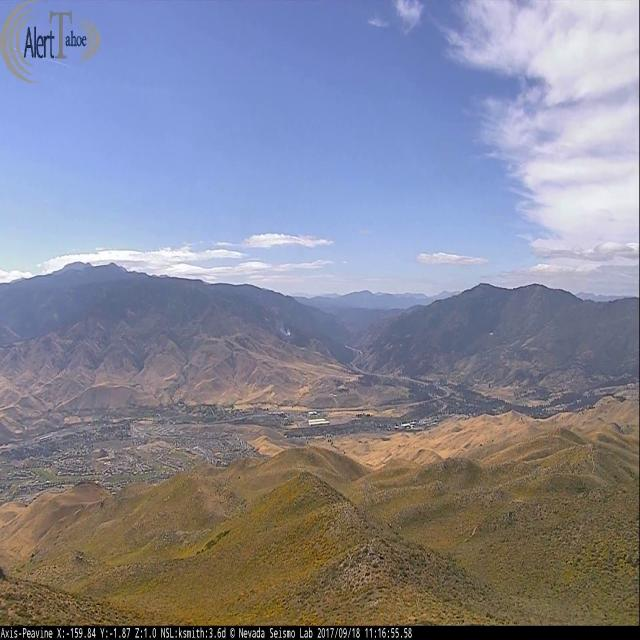smoke: (275, 322, 291, 336)
